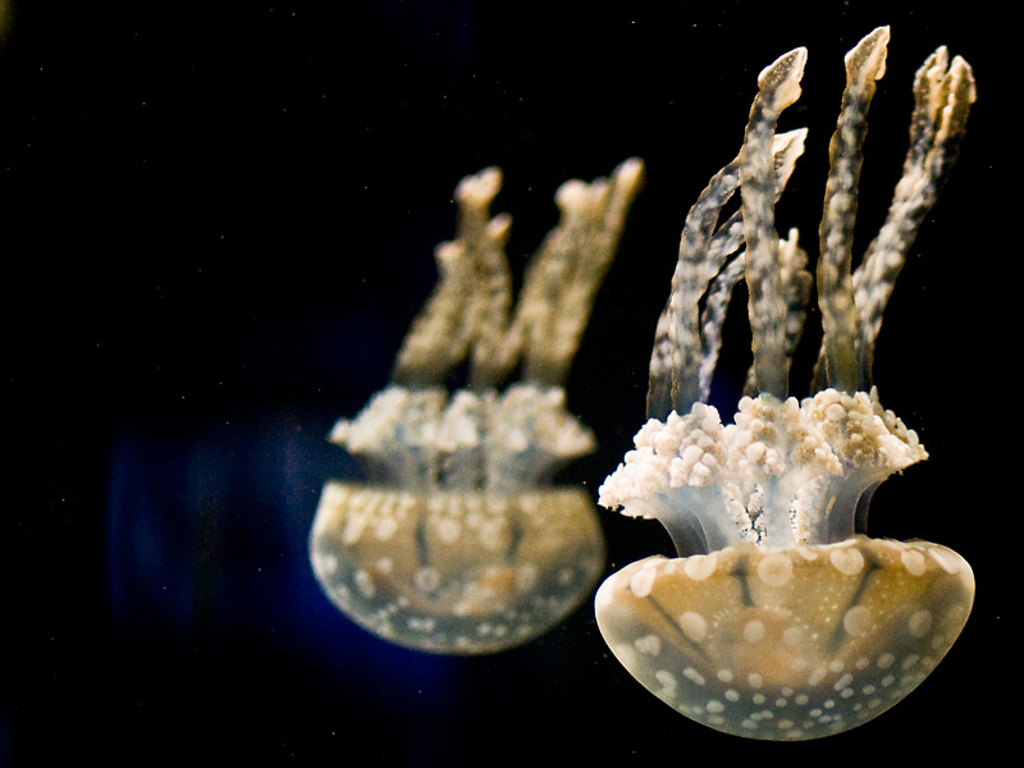Jellyfish: (591, 17, 977, 739), (312, 158, 645, 661), (587, 543, 967, 746)
